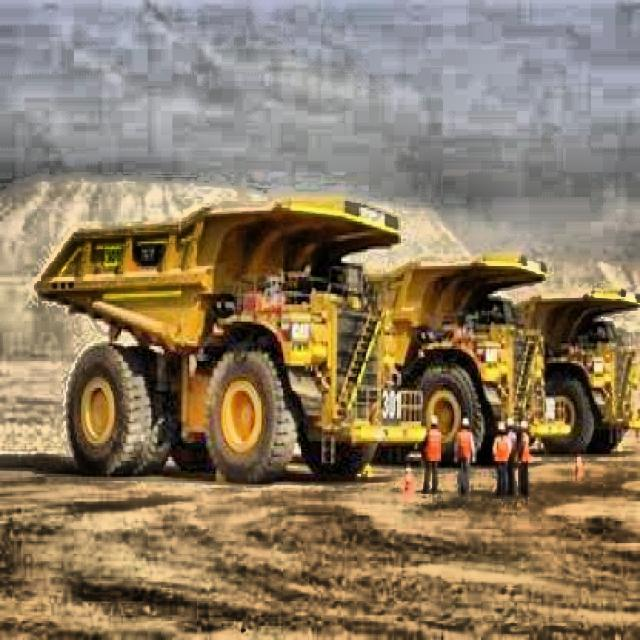dump_truck: (40, 194, 425, 488), (426, 225, 552, 479), (554, 258, 638, 472)
